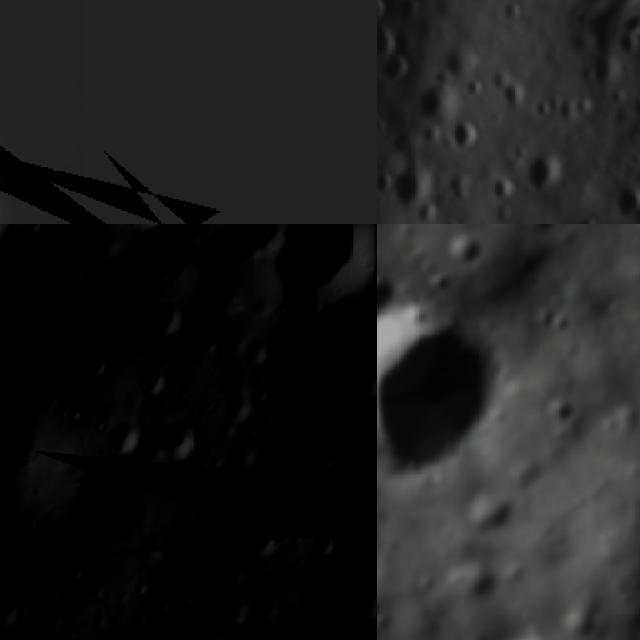crater: (377, 305, 500, 480), (264, 224, 377, 320), (0, 345, 57, 525), (516, 141, 576, 207), (227, 498, 285, 566), (145, 413, 201, 466), (438, 564, 507, 604), (467, 495, 526, 539), (442, 109, 489, 162), (130, 353, 174, 408), (199, 267, 243, 319), (598, 171, 640, 224), (377, 45, 422, 91), (207, 584, 249, 626), (242, 224, 285, 265), (100, 416, 139, 457), (342, 575, 377, 620), (303, 521, 339, 563), (147, 299, 182, 342), (0, 573, 25, 628), (443, 237, 481, 271), (221, 389, 255, 426), (240, 333, 274, 368), (227, 434, 260, 470), (377, 19, 403, 62), (377, 275, 403, 312), (377, 0, 399, 41), (78, 349, 109, 378), (293, 462, 317, 491), (379, 0, 437, 10), (365, 339, 377, 378)
